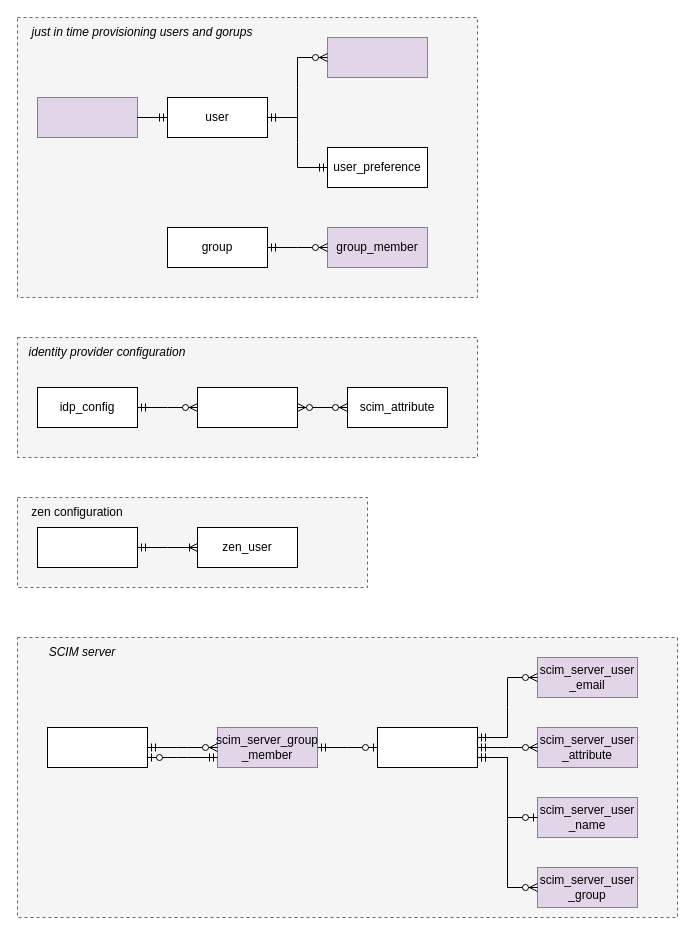
The diagram is 695 pixels wide and 935 high, and some of its shapes have lost their labels. The shapes that lost their labels are listed below. From the top down, each one's centre as x and y in pixels, then its label:
(x=377, y=57): user_attribute
(x=87, y=117): apikey
(x=247, y=407): scim_attr_mapping
(x=87, y=547): zen_instance
(x=97, y=747): scim_server_group
(x=427, y=747): scim_server_user
